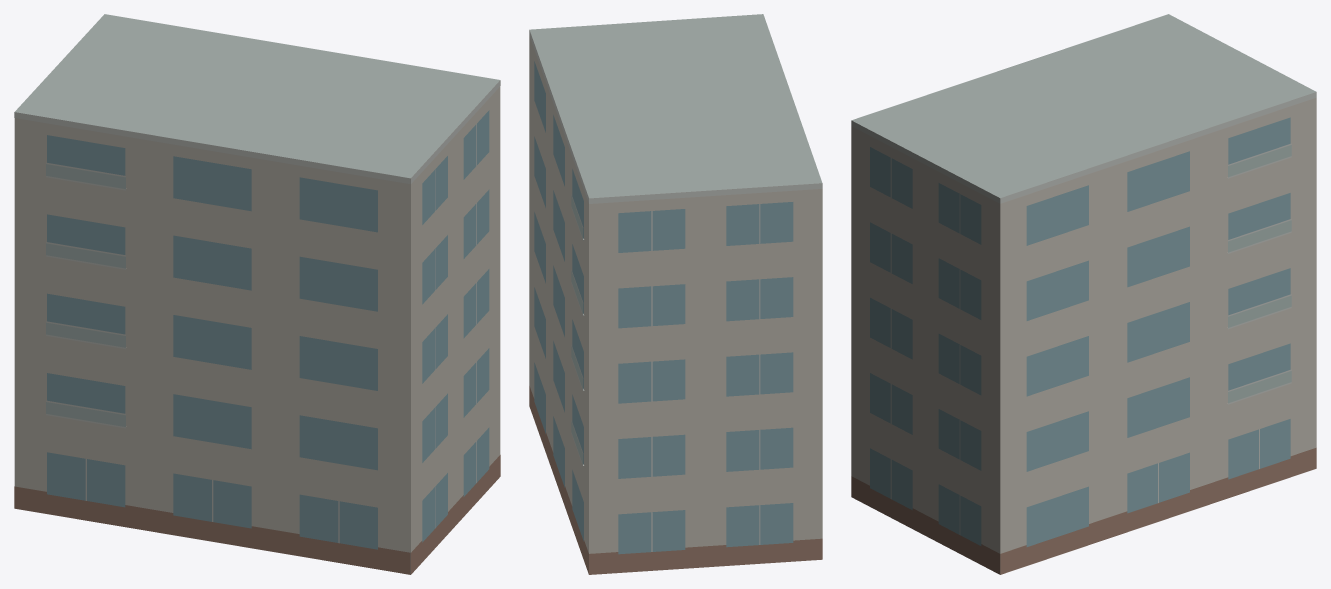
File: survey-upis-32984597.glb
The picture shows the model from 3 angles, left to right: view 1: azimuth 30°, elevation 25°; view 2: azimuth 150°, elevation 25°; view 3: azimuth 270°, elevation 25°; orthographic projection. The views are drawn at different scales.
Parts seen in each view (by area): view 1: survey-upis-32984597.tmp; view 2: survey-upis-32984597.tmp; view 3: survey-upis-32984597.tmp.
Part boxes in pixels (<box>): survey-upis-32984597.tmp: <box>14,14,500,574</box>; survey-upis-32984597.tmp: <box>529,14,822,574</box>; survey-upis-32984597.tmp: <box>851,14,1316,574</box>.
Bounding box in the file's own units: 17.1 × 16.3 × 18.26.
